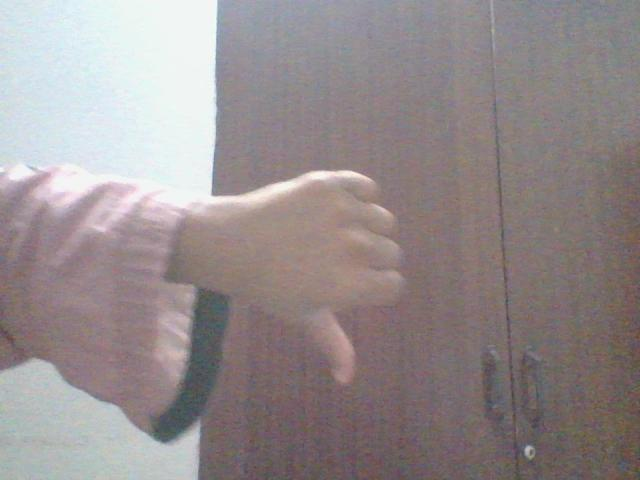thumbs-down: (259, 163, 412, 397)
